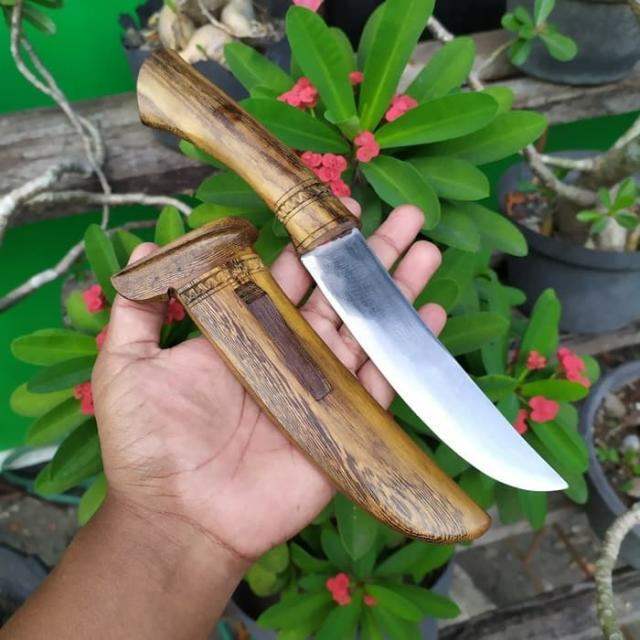Pisau: (115, 28, 586, 501)
